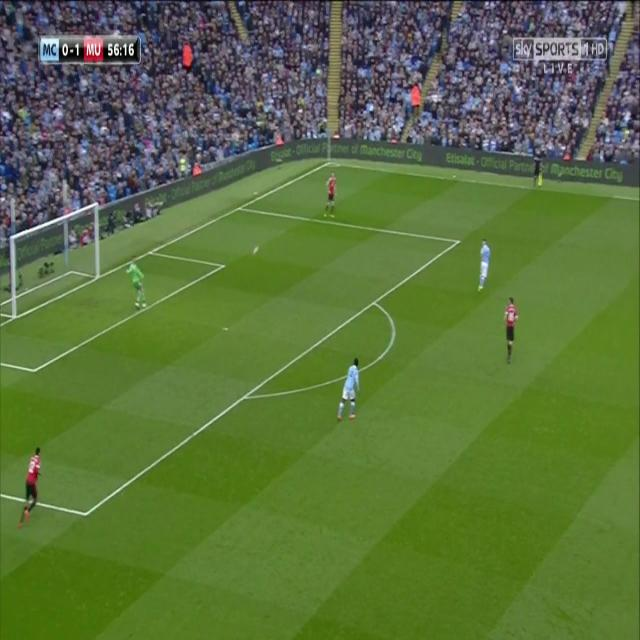Ball: (251, 241, 261, 258)
Goalkeeper: (126, 255, 148, 311)
Player: (15, 444, 44, 535), (336, 354, 362, 423), (504, 294, 521, 368), (473, 234, 493, 296), (322, 169, 338, 224)
Referee: (531, 144, 546, 192)
